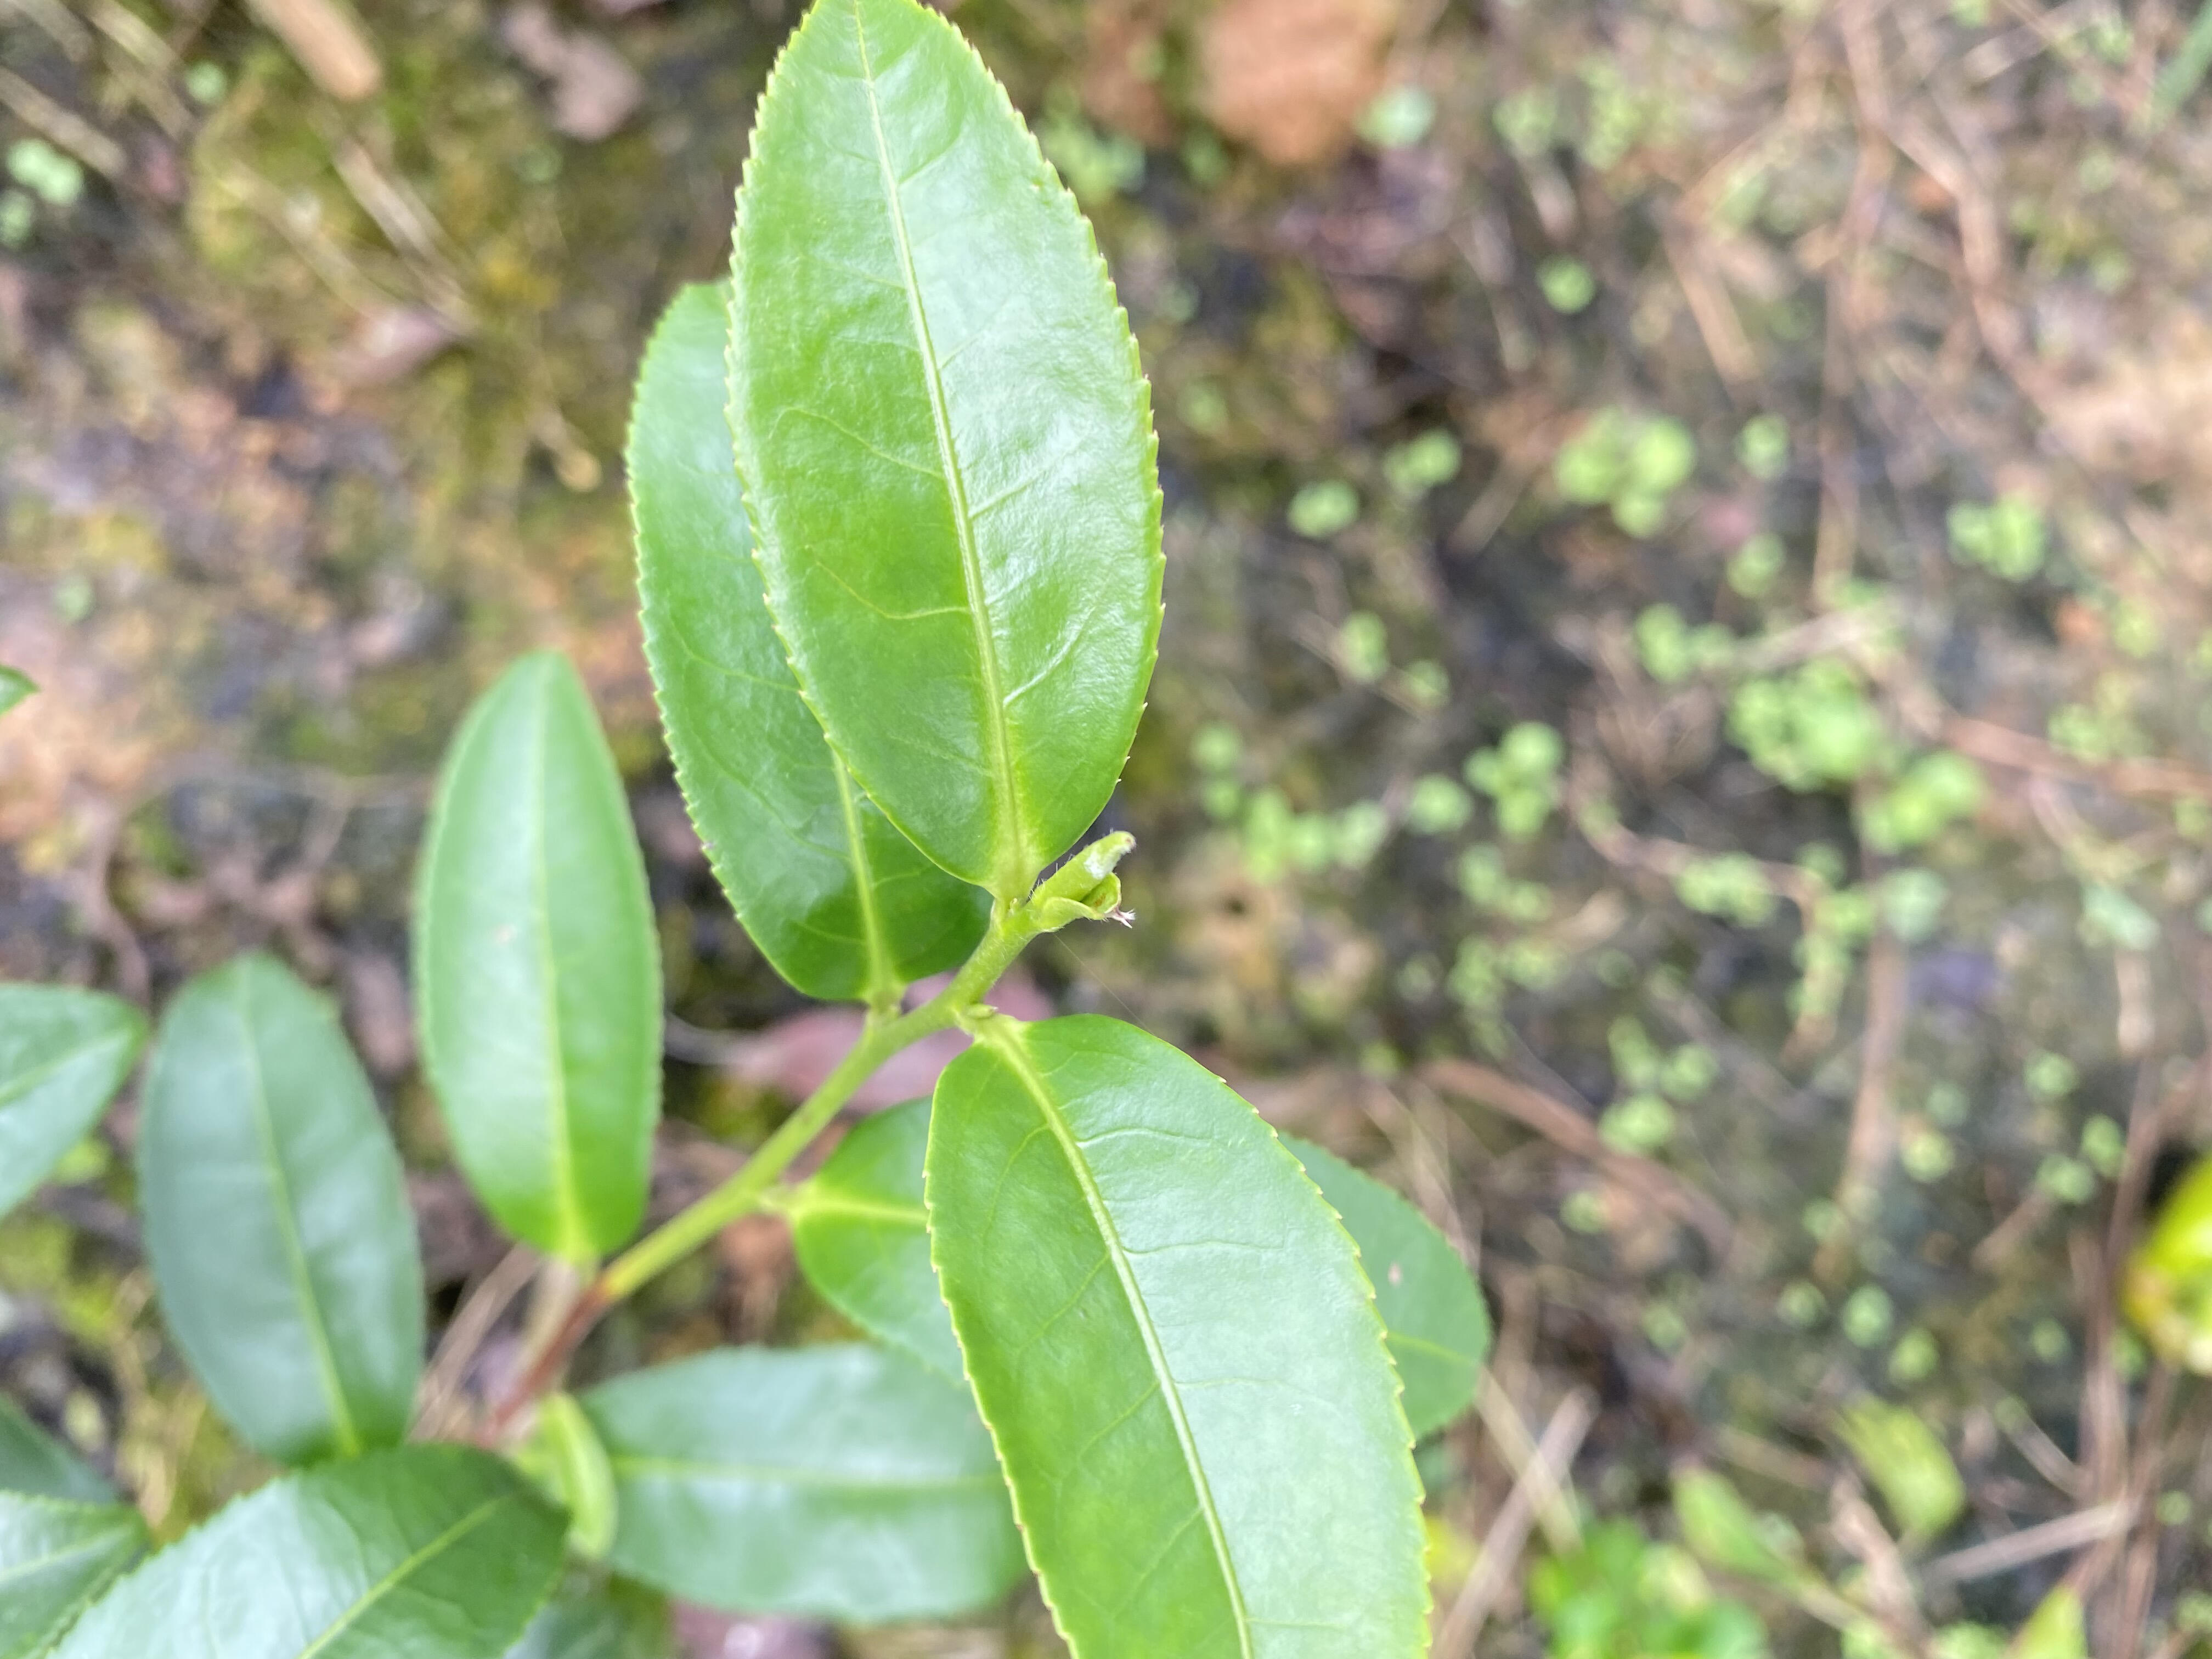healthy: (725, 2, 1169, 880), (925, 1012, 1435, 1659)
